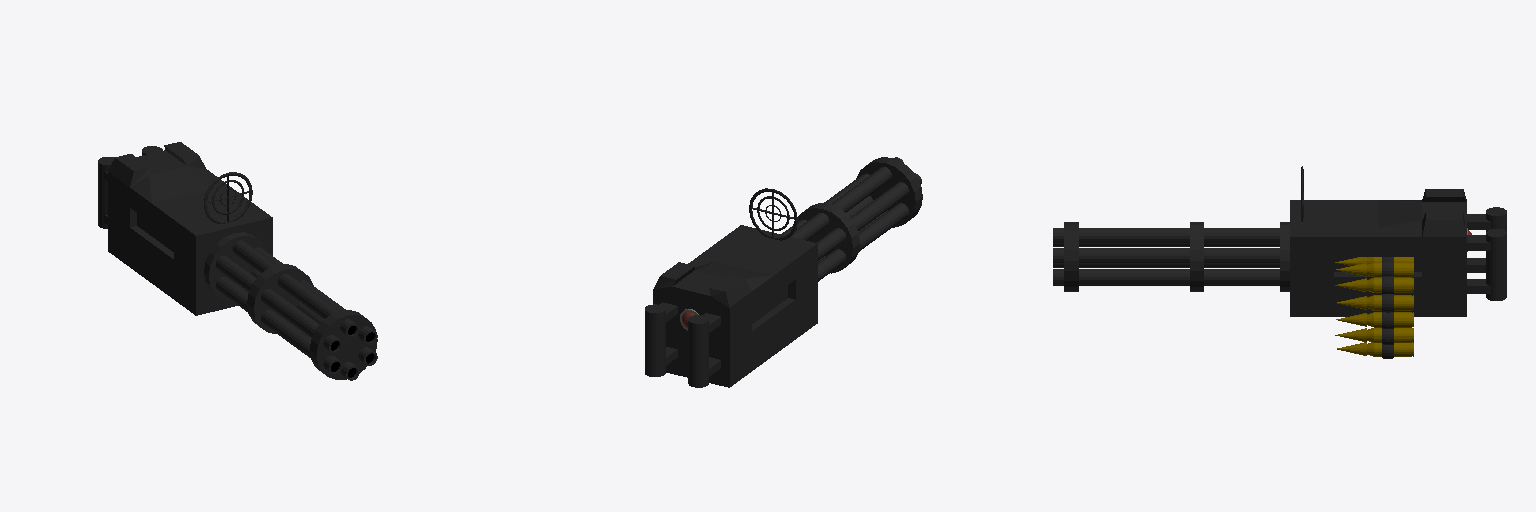
Rendered from Minigun.obj.
The picture shows the model from 3 angles: view 1: azimuth 30°, elevation 25°; view 2: azimuth 150°, elevation 25°; view 3: azimuth 270°, elevation 25°; orthographic projection.
Visible parts, largest first — view 1: minigun pCube1, minigun polySurface15, minigun pCube4, minigun polySurface17; view 2: minigun pCube1, minigun polySurface15, minigun polySurface17, polySurface16 minigun, minigun pCube4; view 3: minigun pCube1, minigun polySurface15, minigun belt1, polySurface16 minigun, minigun polySurface17.
Part boxes in pixels (bbox=[...]): minigun pCube1: bbox=[108, 142, 272, 315]; minigun polySurface15: bbox=[204, 232, 377, 380]; minigun pCube4: bbox=[204, 172, 252, 223]; minigun polySurface17: bbox=[98, 157, 114, 228]; minigun pCube1: bbox=[653, 225, 817, 387]; minigun polySurface15: bbox=[781, 157, 922, 281]; minigun polySurface17: bbox=[688, 313, 720, 387]; polySurface16 minigun: bbox=[645, 302, 677, 376]; minigun pCube4: bbox=[749, 188, 797, 240]; minigun pCube1: bbox=[1290, 189, 1466, 316]; minigun polySurface15: bbox=[1053, 222, 1289, 291]; minigun belt1: bbox=[1335, 257, 1413, 358]; polySurface16 minigun: bbox=[1467, 229, 1506, 300]; minigun polySurface17: bbox=[1467, 207, 1506, 272].
Size of the model in its own units: 1.43 by 1.98 by 5.15.